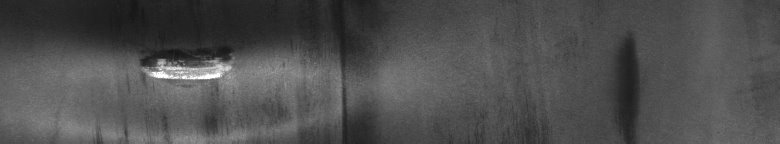ke: (124, 49, 236, 136)
